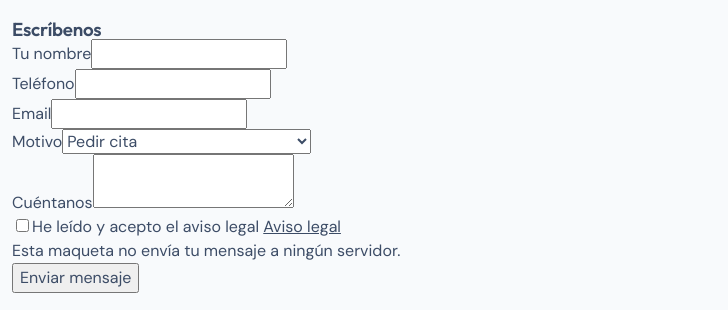
Test case: @s6 se puede enviar dejando vacíos los campos no obligatorios › con Motivo en su opción inicial y Cuéntanos vacío, enviar muestra la confirmación y el formulario desaparece
This screenshot has width=728, height=310.
Type "Ana Martín" into the field labelled "Tu nombre" at (189, 54), box [91,39,287,69]
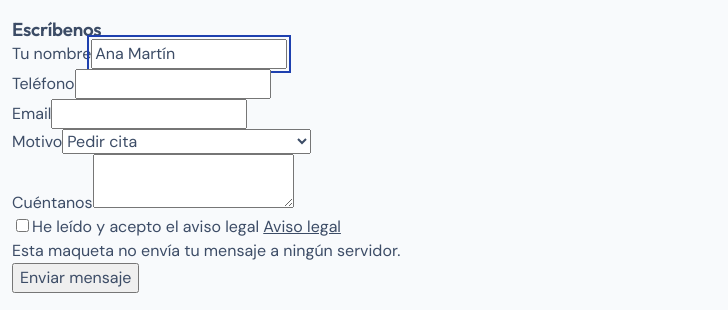
Type "600000000" into the field labelled "Teléfono" at (173, 84), box [75,69,271,99]
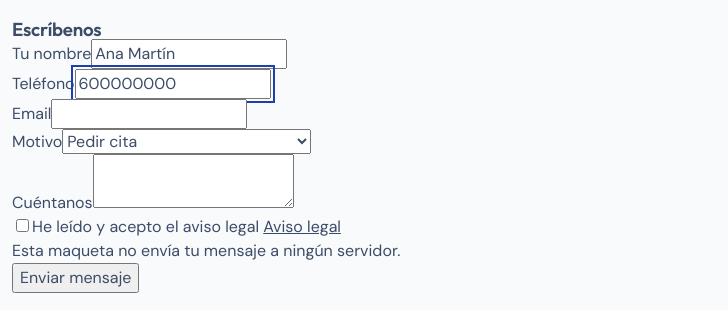
Type "ana@correo.es" into the field labelled "Email" at (149, 114), box [51,99,247,129]
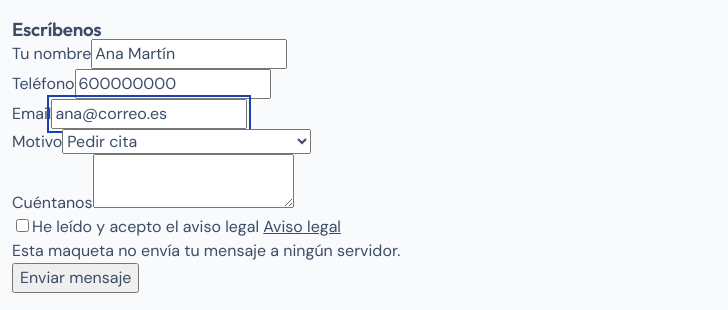
Click the checkbox at (22, 226), box [16,219,29,232]
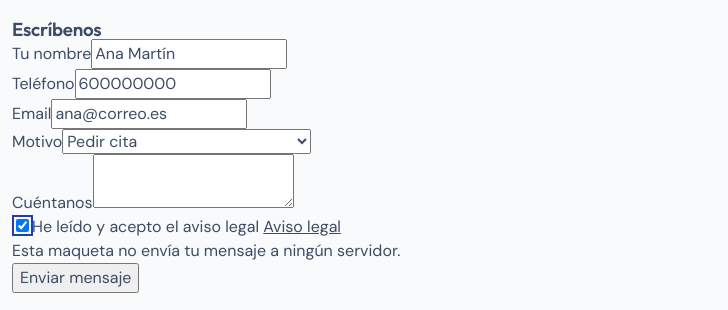
Click the button "Enviar mensaje" at (76, 278), box [12,263,140,293]
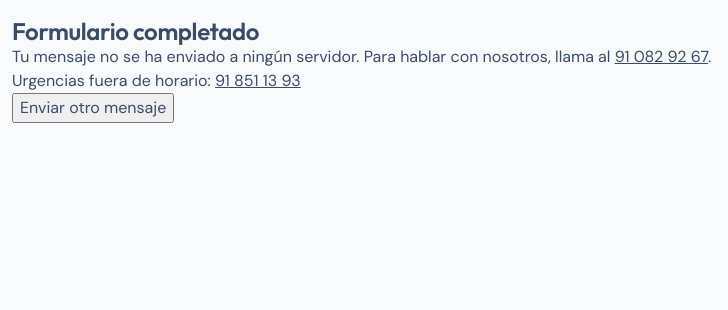
Expected: the heading "Formulario completado" is shown, [12,16,259,46]
Expected: the heading "Escríbenos" is gone
